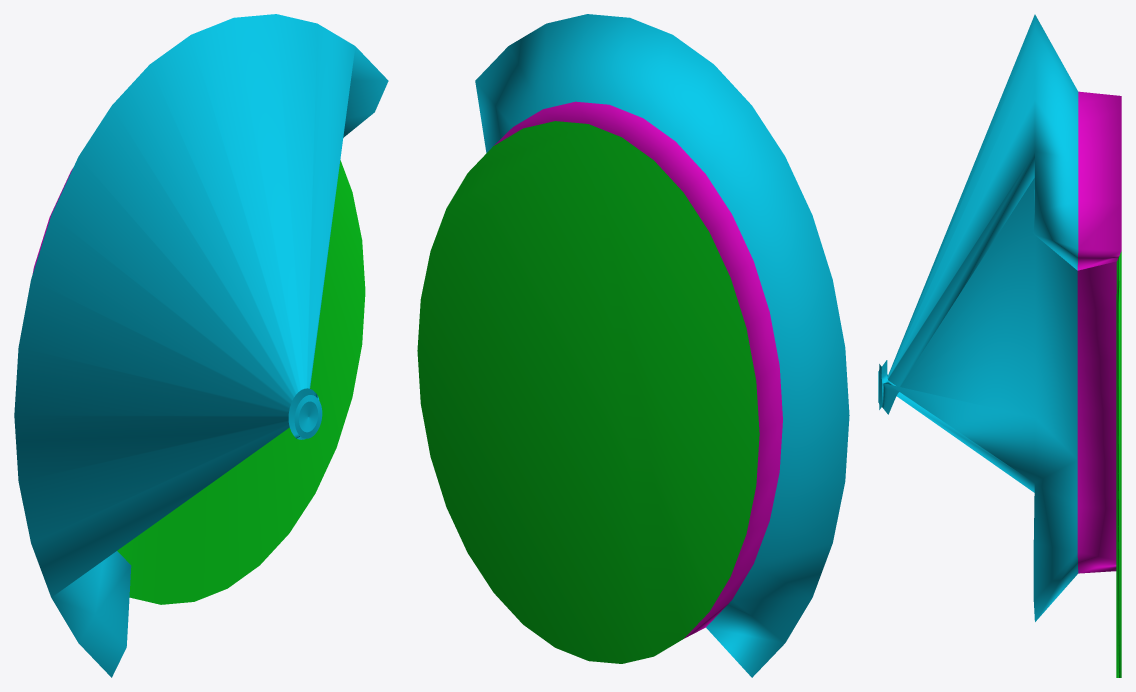
File: chozaH.fbx
The picture shows the model from 3 angles, left to right: view 1: azimuth 30°, elevation 25°; view 2: azimuth 150°, elevation 25°; view 3: azimuth 270°, elevation 25°; orthographic projection. The views are drawn at different scales.
Parts seen in each view (by area): view 1: Cylinder.002; view 2: Cylinder.002; view 3: Cylinder.002.
Boxes of the visible parts, left/top/right/bottom form: Cylinder.002: left=14, top=14, right=388, bottom=677; Cylinder.002: left=417, top=14, right=849, bottom=677; Cylinder.002: left=878, top=14, right=1121, bottom=677.
Size of the model in its own units: 4.98 by 7.68 by 2.58.
